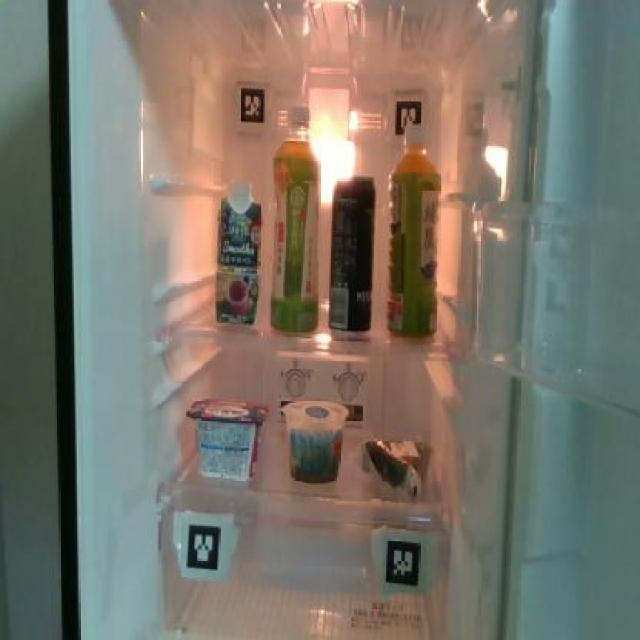energy_drink: (326, 176, 376, 338)
pudding: (282, 398, 349, 484)
rice_ball: (356, 429, 433, 503)
smoothie: (210, 176, 262, 329)
tea_a: (385, 120, 440, 338)
tea_i: (268, 105, 322, 333)
yogurt: (184, 394, 268, 481)
